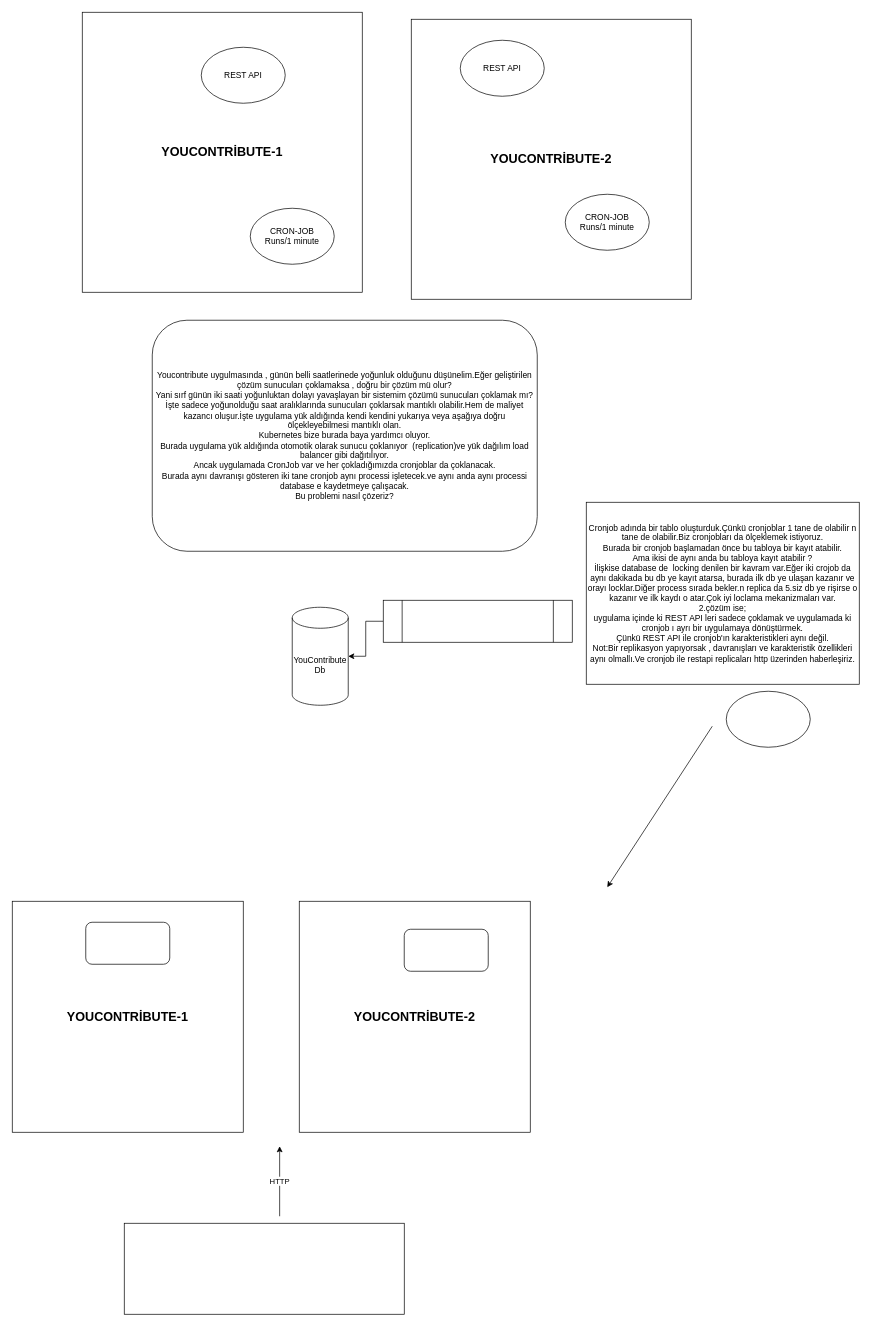
The diagram is 872 pixels wide and 1327 high, and some of its shapes have lost their labels. The centre of each missing label's shape, as x and y in pixels:
2.ÇÖZÜM: (x=768, y=719)
CRON-JOB-Worker: (x=264, y=1268)
Execution Cronjob (Db tablosu) Explain:Cronjob exec with locks: (x=477, y=621)
REST-API-1: (x=127, y=943)
REST-API-2: (x=446, y=950)
